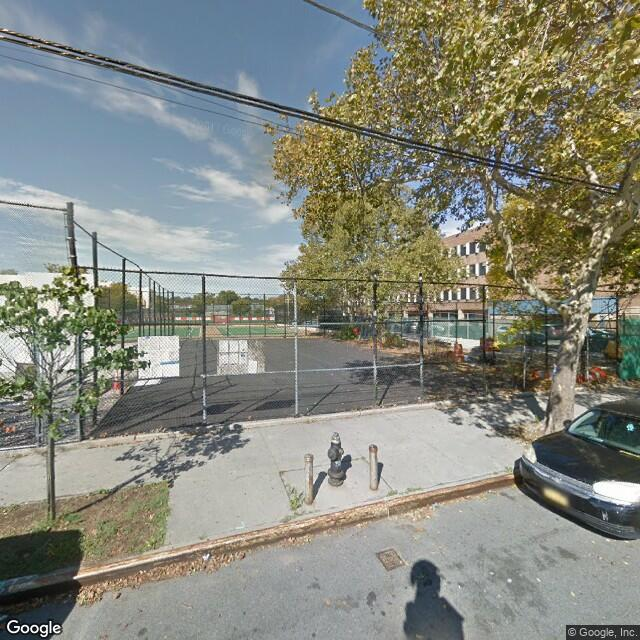litter: (201, 553, 213, 560), (430, 502, 439, 508)
